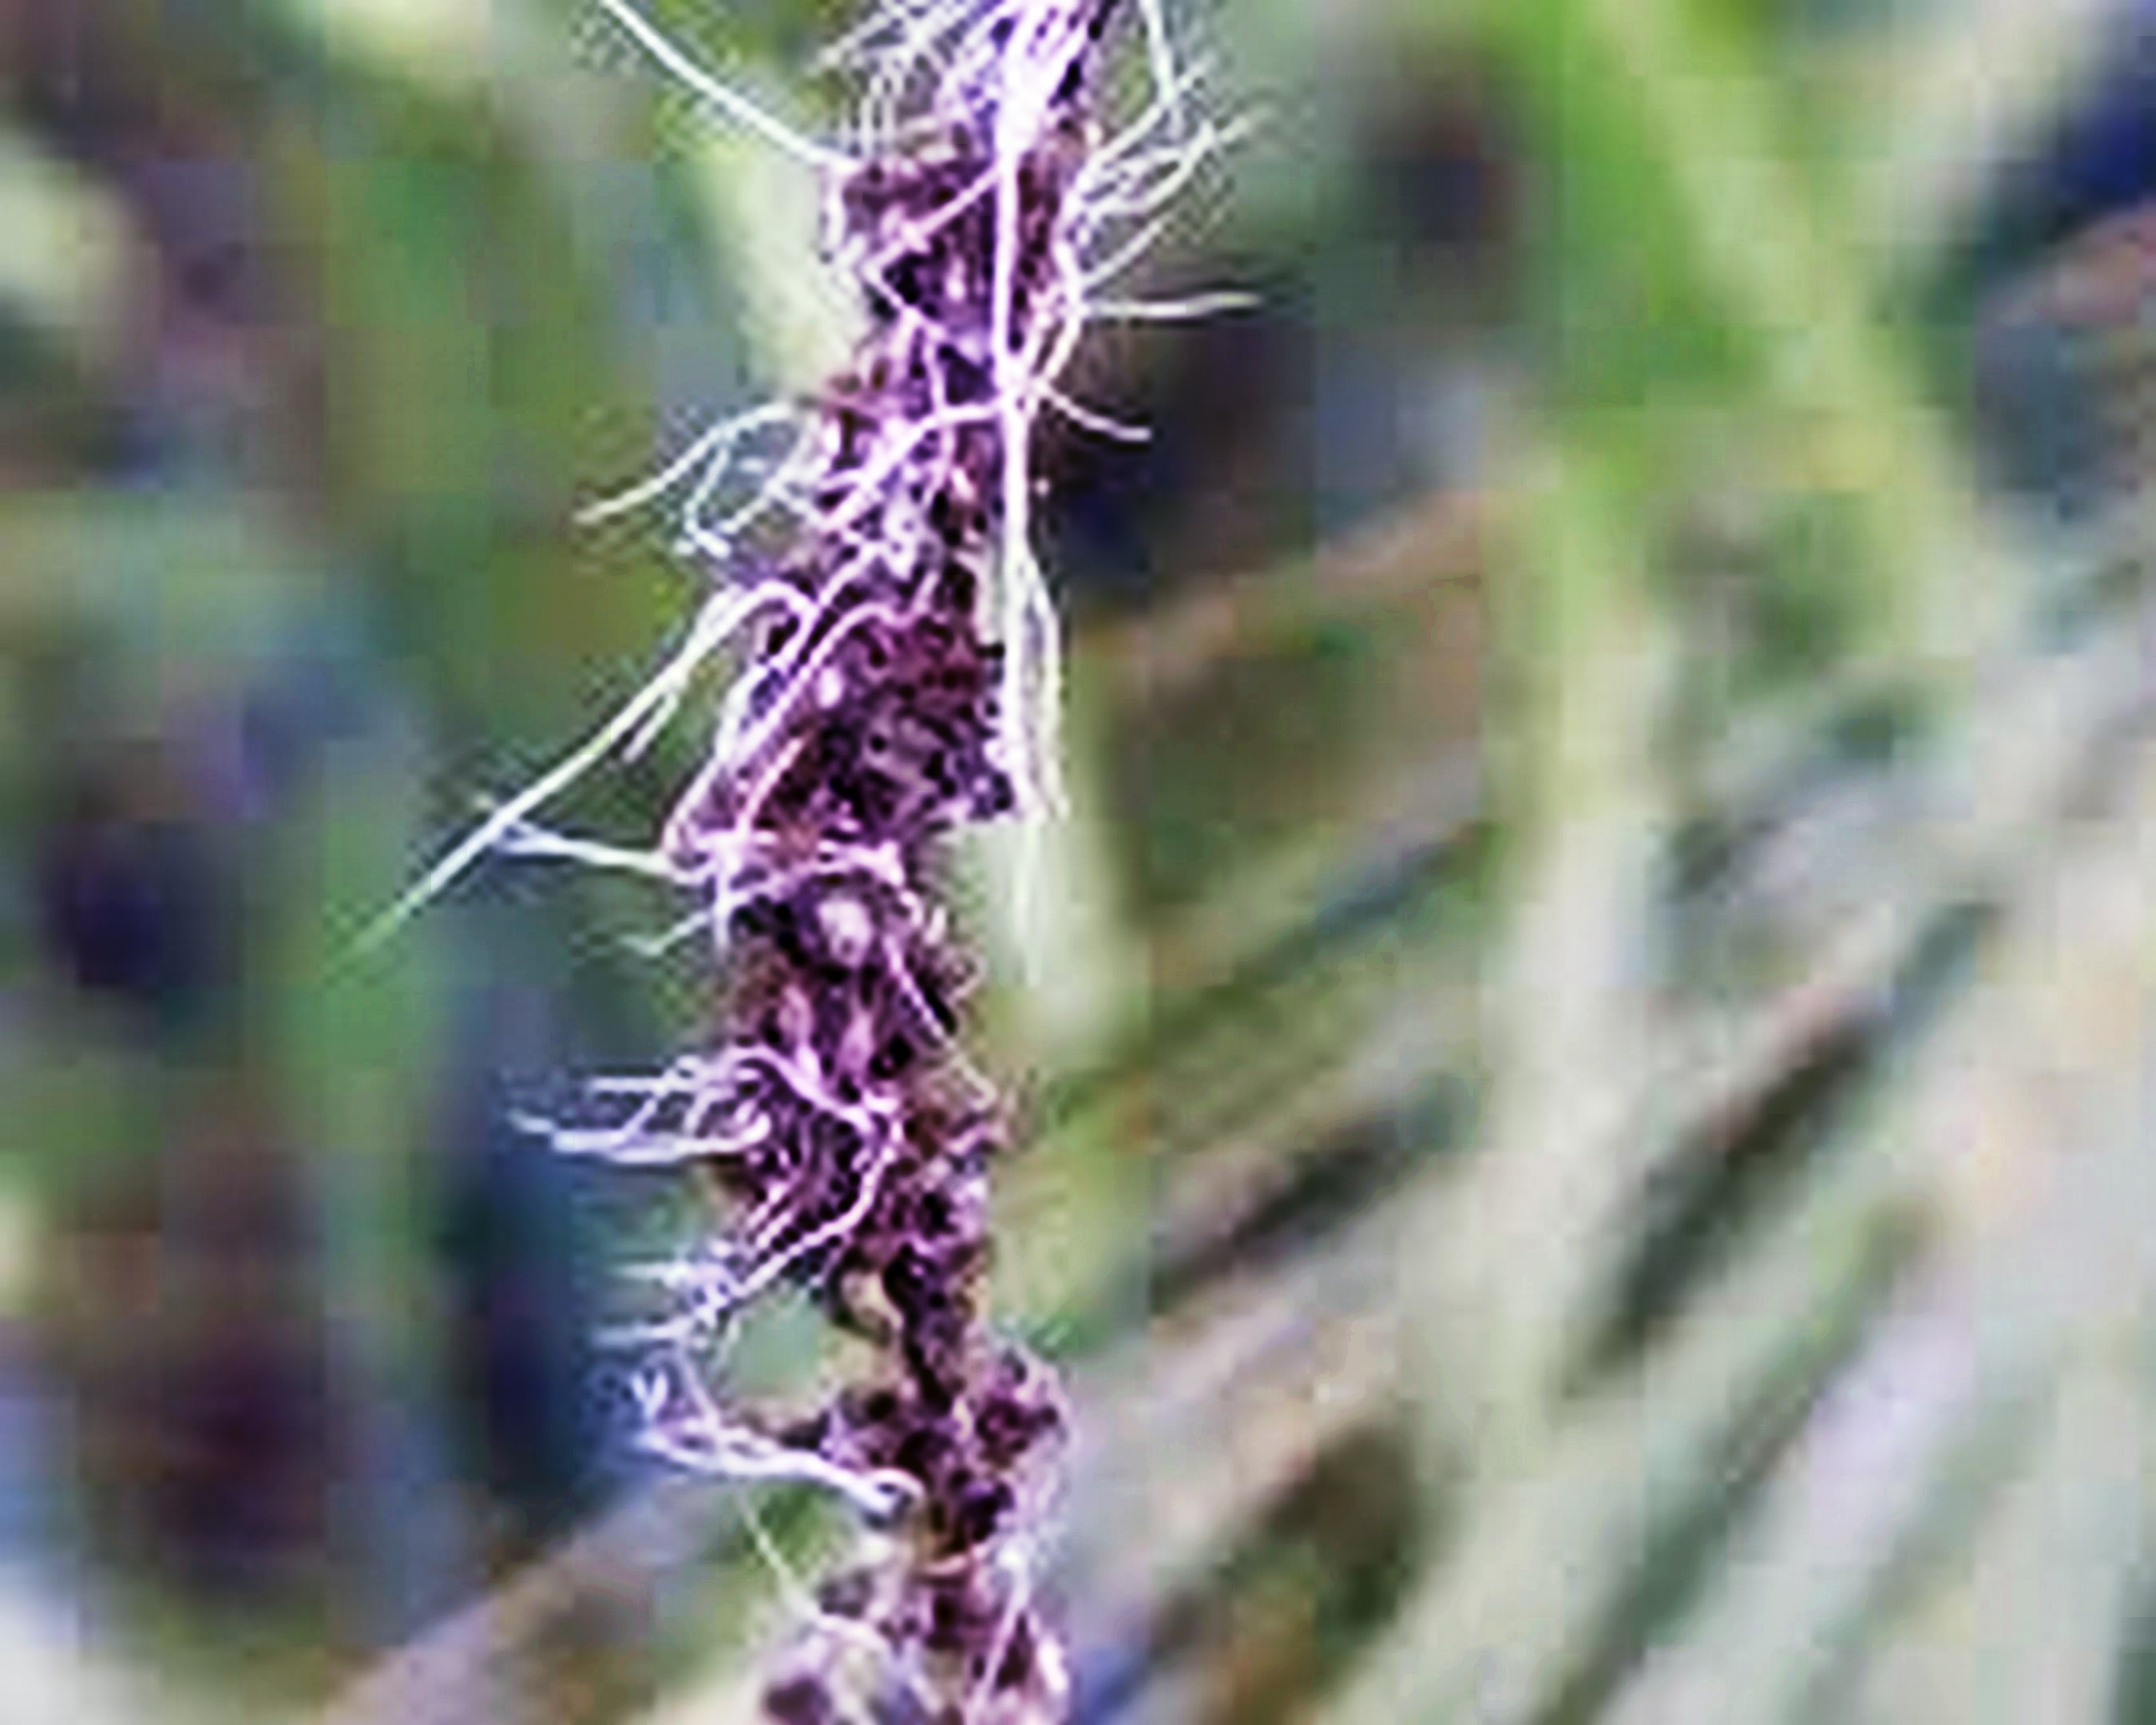Wheat Loose Smut: (553, 72, 1119, 1589)
